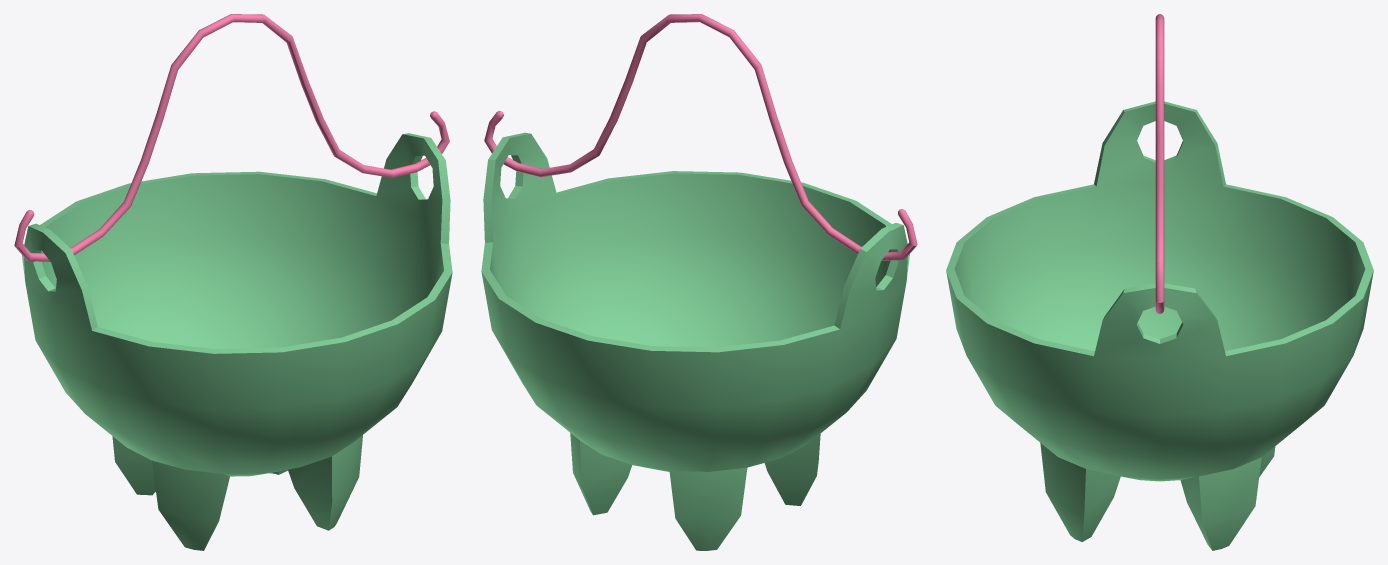
Rendered from Pot.fbx.
3 renders of one model, left to right at view 1: azimuth 30°, elevation 25°; view 2: azimuth 150°, elevation 25°; view 3: azimuth 270°, elevation 25°, orthographic.
Visible parts, largest first — view 1: Pot; view 2: Pot; view 3: Pot.
Part boxes in pixels (x1,y1,x2,y2): Pot: (14,14,452,550); Pot: (481,14,917,550); Pot: (946,14,1373,550).
Bounding box in the file's own units: 57.87 × 63.11 × 50.
